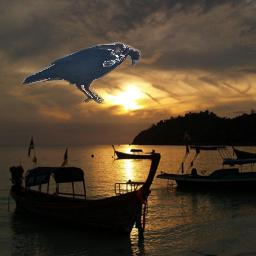Crow: (20, 42, 141, 104)
